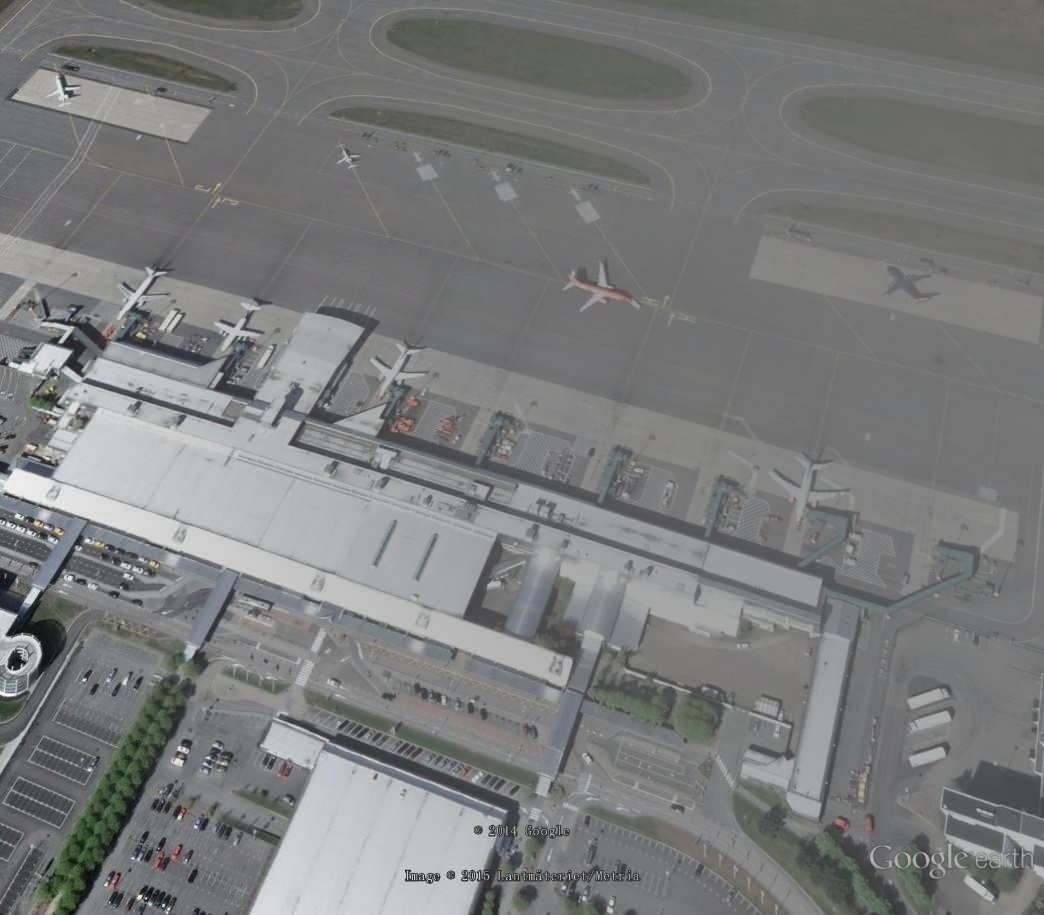aircraft: (768, 454, 856, 524), (560, 257, 646, 317), (370, 342, 432, 400), (117, 263, 173, 322), (213, 301, 267, 355), (880, 266, 934, 309), (46, 72, 84, 108), (335, 148, 362, 174)
